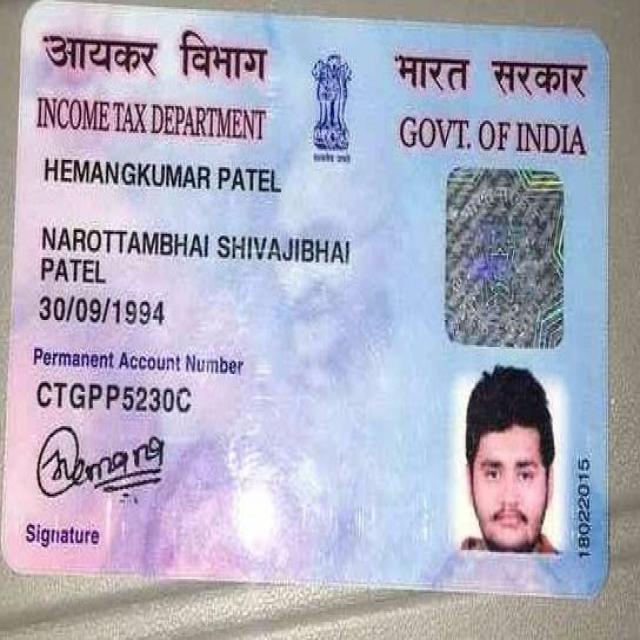pan_card: (3, 13, 599, 585)
